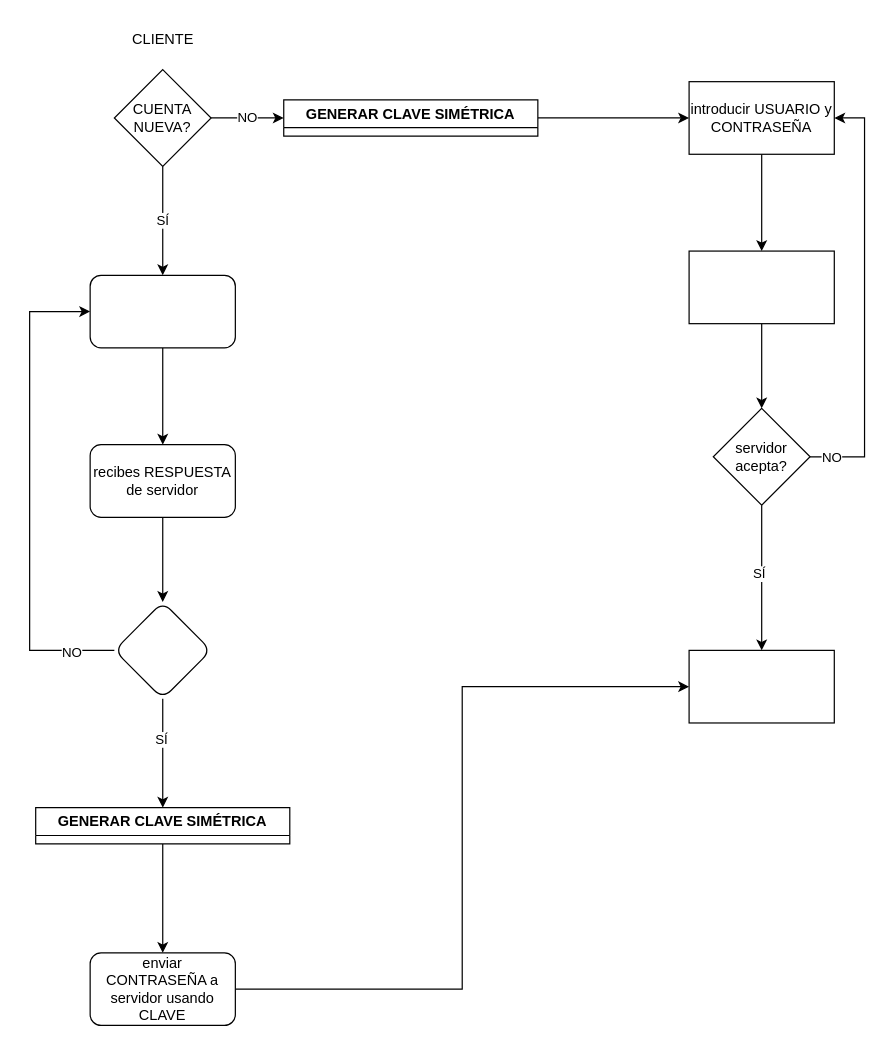
Image size: 895x1047. Some labels were removed from this diagram. The centre of each missing label's shape, as x and y in pixels:
enviar USUARIO y CONTRASEÑA al servidor: pixel 761 287
SESIÓN INICIADA: pixel 761 686
USUARIO = input() envías USUARIO a servidor: pixel 162 311
usuario válido?: pixel 162 650
